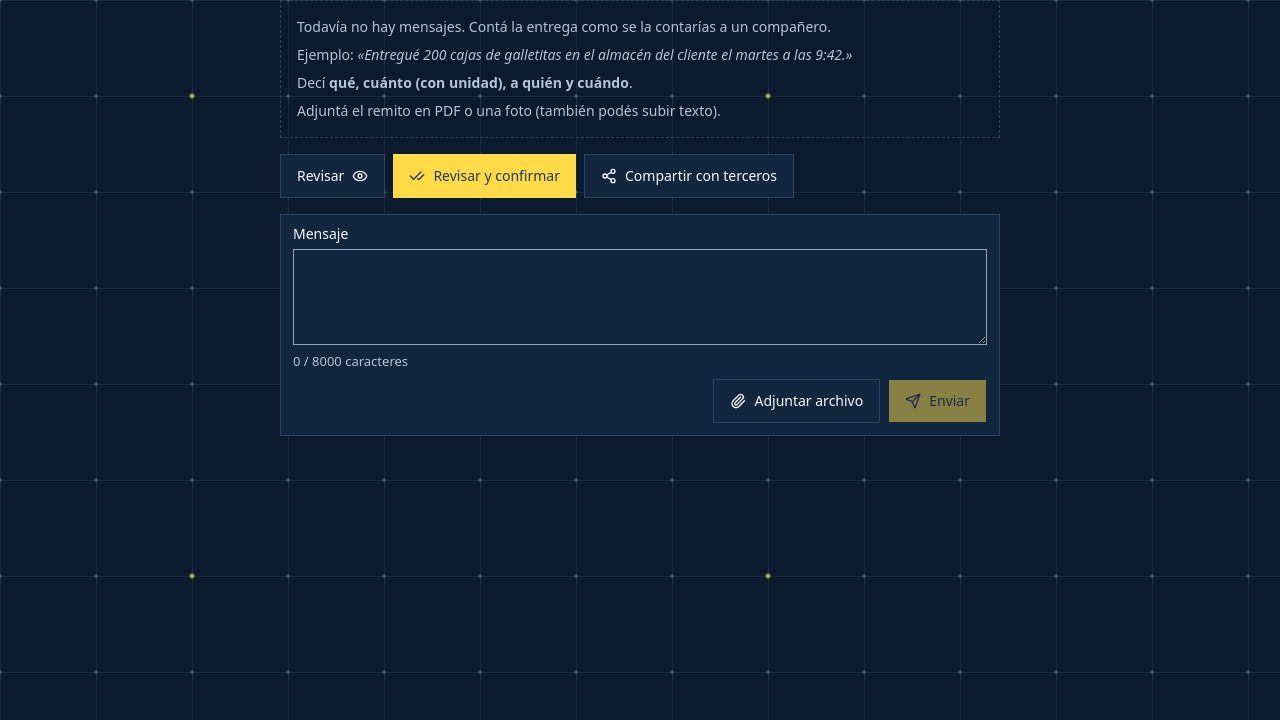
Test case: ChatContainer (MVP-054; red simulada, no es integración real) › evento error a mitad del flujo y flujo cortado son errores, no éxito
Type "Entregué 3 cajas" into the text box labelled "Mensaje" at (640, 297), box [293,249,987,345]
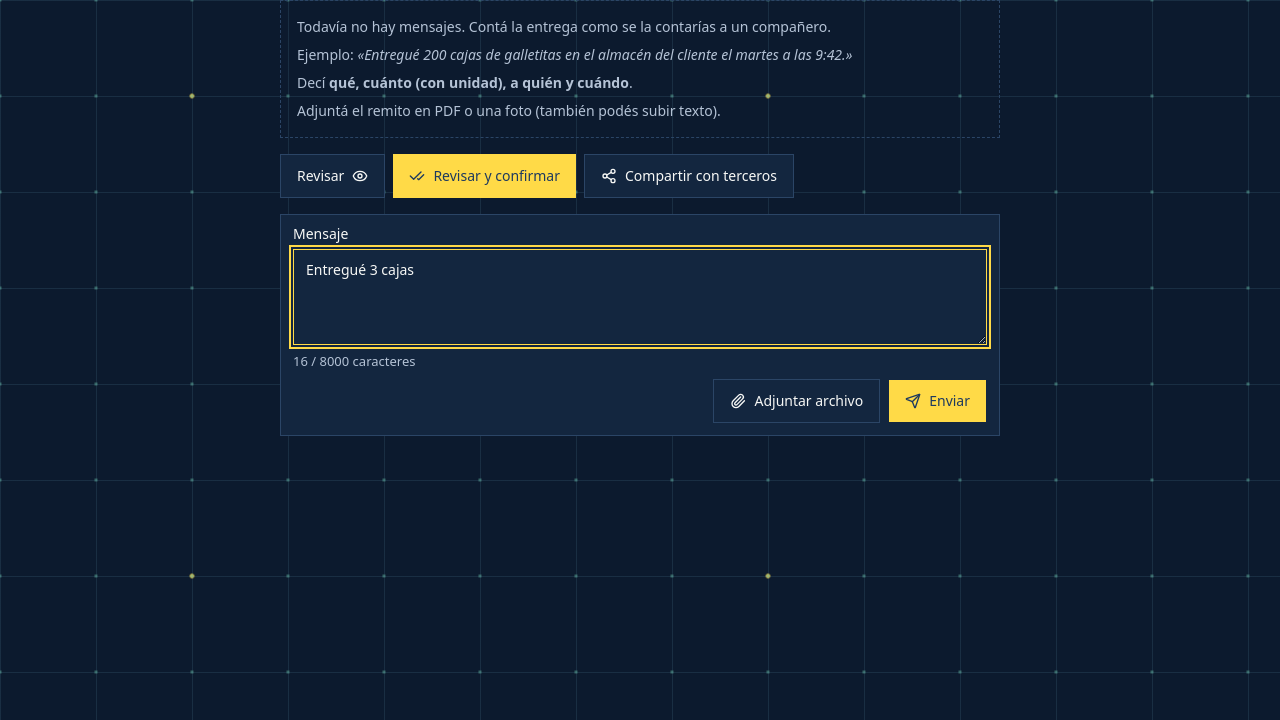
Click the button "Enviar" at (938, 401), box [888,379,987,423]
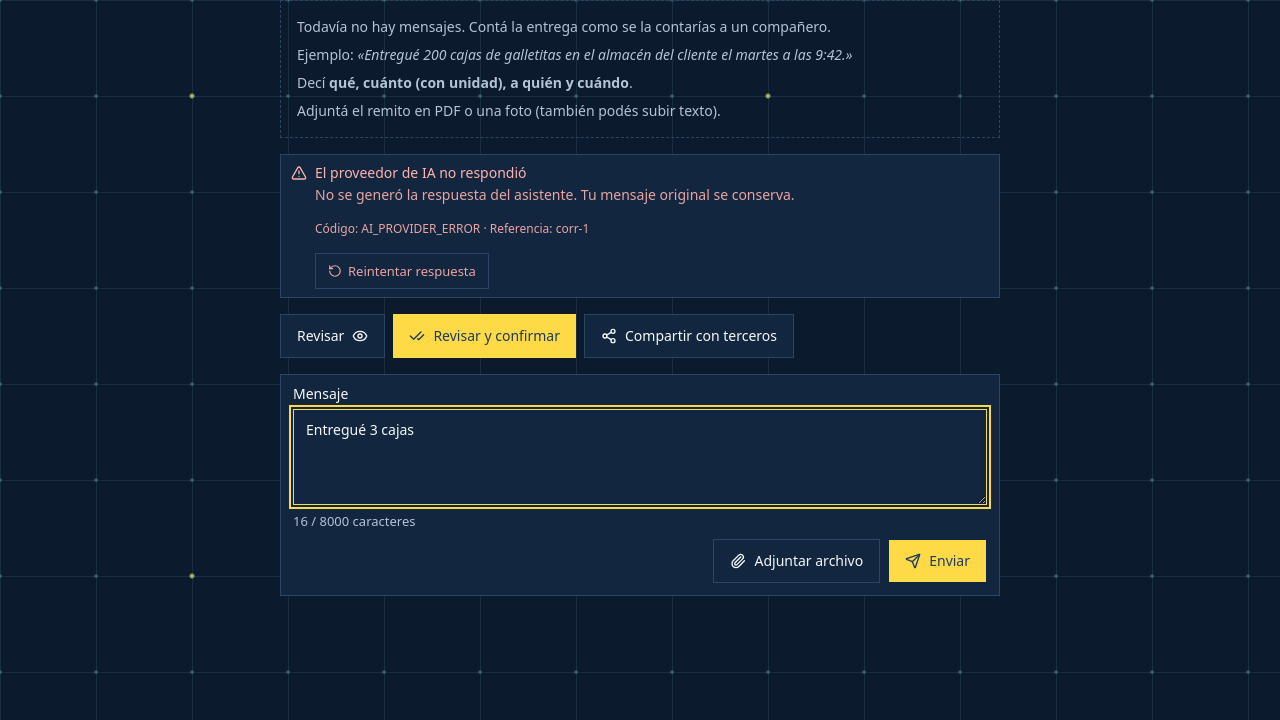
Result: the text "El proveedor de IA no respondió" is shown at [315,163,526,182]
